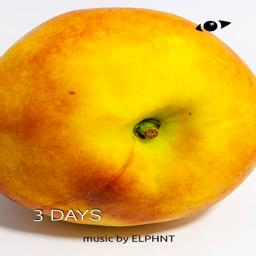Peach Fresh: (1, 6, 250, 228)
